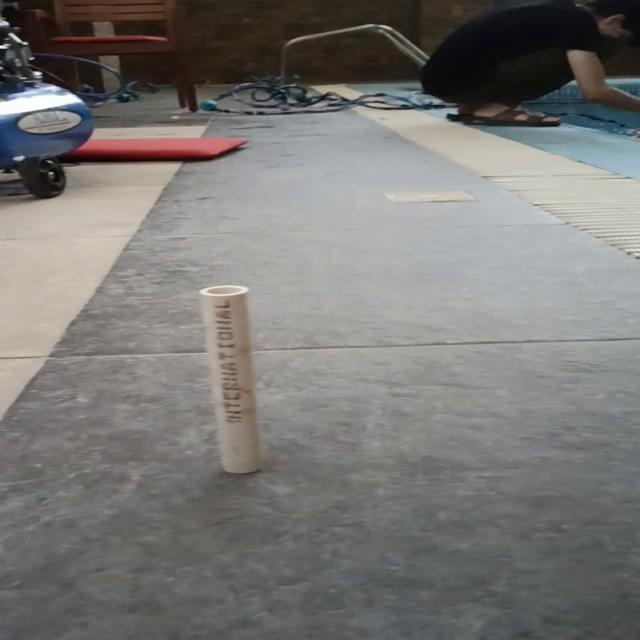Cube: (196, 284, 264, 474)
